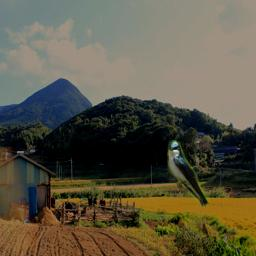Swallow: (167, 140, 210, 208)
